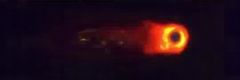keyhole: (169, 31, 184, 45)
